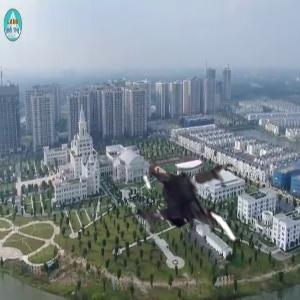drone: (119, 144, 263, 288)
